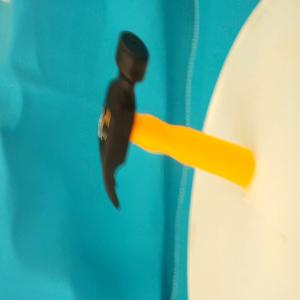martelo: (96, 24, 260, 214)
